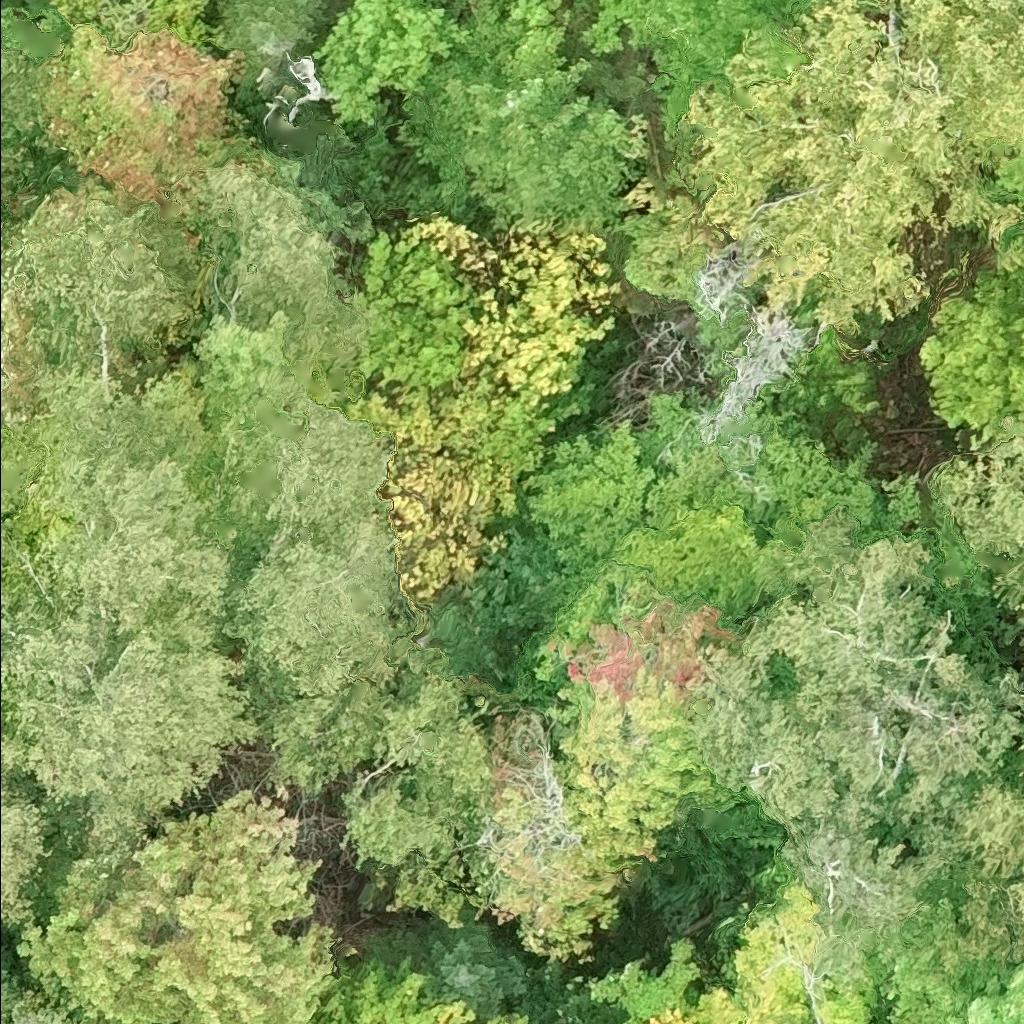crown: (686, 0, 1020, 337), (689, 537, 1023, 866), (478, 593, 741, 969), (12, 779, 343, 1023), (0, 362, 238, 640), (0, 598, 260, 851), (220, 499, 438, 799), (396, 7, 633, 245), (31, 21, 270, 230), (0, 173, 201, 416), (398, 213, 622, 406), (339, 670, 503, 929), (206, 363, 390, 576), (170, 162, 365, 354), (581, 881, 827, 1023), (582, 0, 814, 142), (340, 227, 477, 386), (897, 0, 1023, 158), (311, 0, 461, 129), (365, 908, 529, 1023), (782, 829, 940, 947), (940, 750, 1023, 965), (920, 267, 1023, 436), (213, 0, 348, 104), (931, 417, 1023, 556), (321, 952, 480, 1023), (0, 762, 57, 930), (884, 959, 1023, 1023), (820, 952, 894, 1023), (0, 530, 43, 645), (0, 960, 72, 1023), (988, 556, 1023, 621), (426, 0, 517, 18), (0, 25, 18, 84), (488, 1009, 534, 1023)
